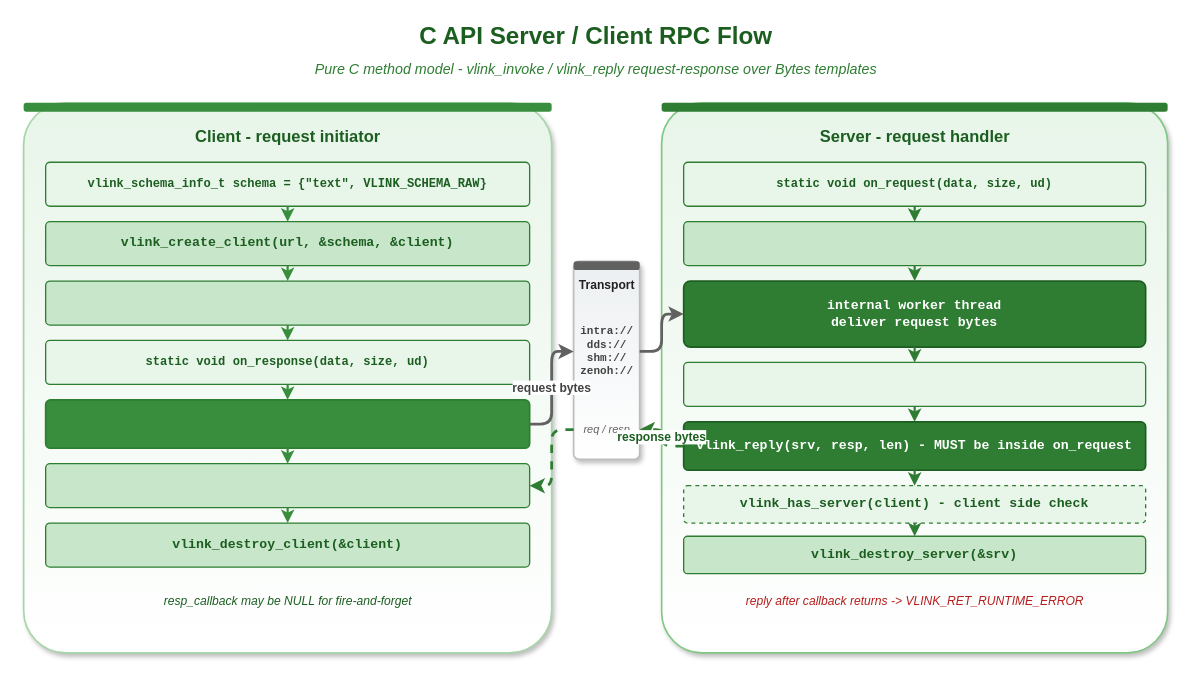
Some shapes in this 1195 by 680 pixel diagram are drawn without their labels. Each missing label, with the centre of its shape:
response delivered to on_response: the point at 287,485
user builds response bytes: the point at 914,384
vlink_create_server(url, &schema, &srv, on_request, &srv): the point at 914,243
vlink_invoke(client, req, len, on_response, ud): the point at 287,424
vlink_wait_for_server(client, 2000): the point at 287,302
